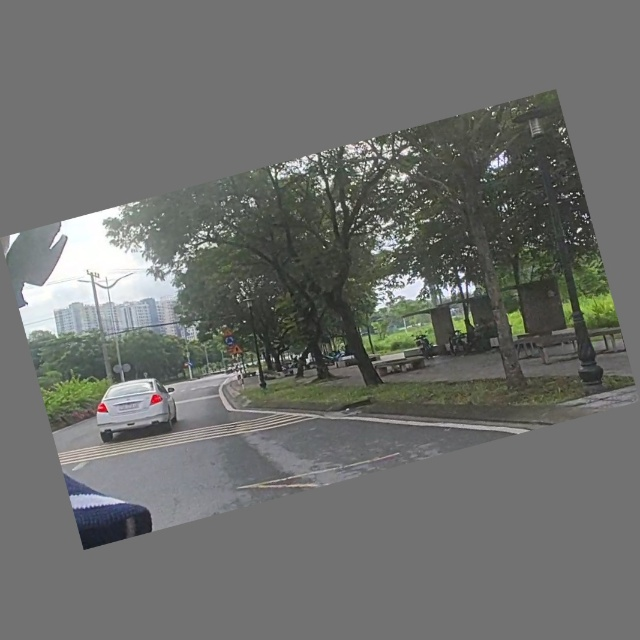R.302a: (188, 361, 195, 368)
R.303: (225, 336, 236, 347)
W.207: (231, 343, 244, 357)
